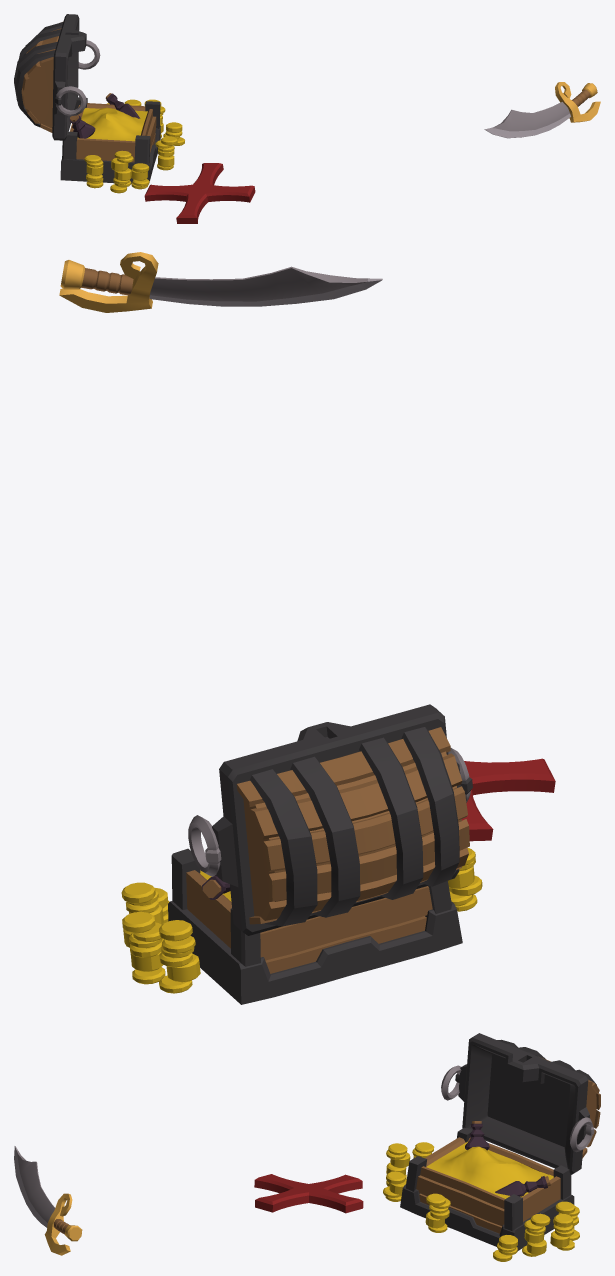
Rendered from PirateKit_Sketchfab.fbx.
3 views of the same model, one above another, from view 1: azimuth 30°, elevation 25°; view 2: azimuth 150°, elevation 25°; view 3: azimuth 270°, elevation 25° (orthographic). The views are drawn at different scales.
Visible parts, largest first — view 1: Prop_GoldBag, Weapon_Cutlass.001; view 2: Prop_GoldBag, Weapon_Cutlass.001; view 3: Prop_GoldBag, Weapon_Cutlass.001.
Part boxes in pixels (x1,y1,x2,y2): Prop_GoldBag: (14,14,255,223); Weapon_Cutlass.001: (484,82,600,138); Prop_GoldBag: (121,704,555,1004); Weapon_Cutlass.001: (59,252,382,312); Prop_GoldBag: (254,1033,600,1261); Weapon_Cutlass.001: (14,1146,82,1255).
Size of the model in its own units: 333 by 125 by 374.
